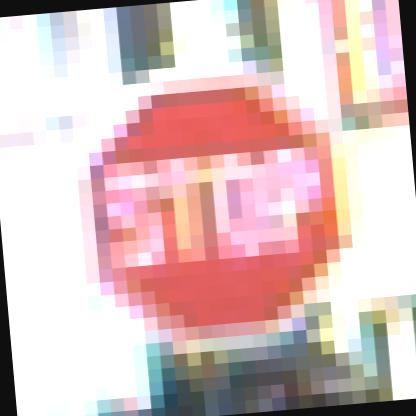stop: (70, 58, 387, 368)
